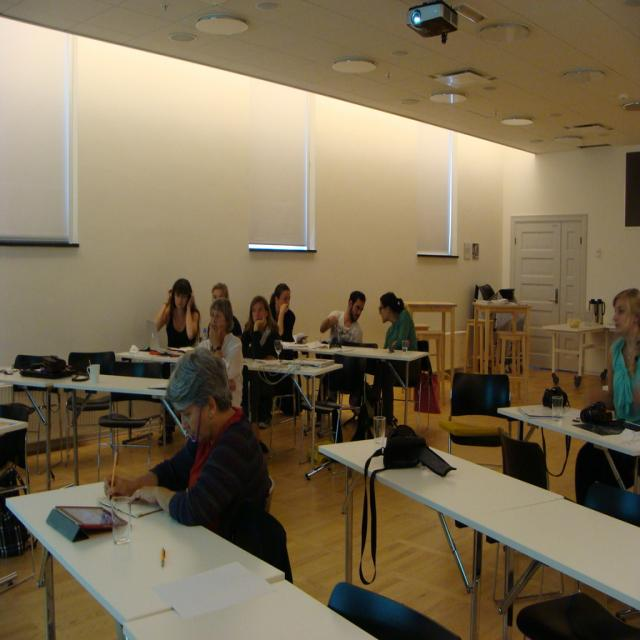chair: (494, 429, 568, 635), (96, 353, 161, 482), (327, 581, 462, 640), (440, 372, 512, 452)
desk: (318, 433, 640, 639)
person: (104, 348, 290, 578), (192, 298, 245, 412), (607, 289, 640, 420), (154, 278, 201, 349), (379, 292, 418, 352), (270, 282, 296, 342)
